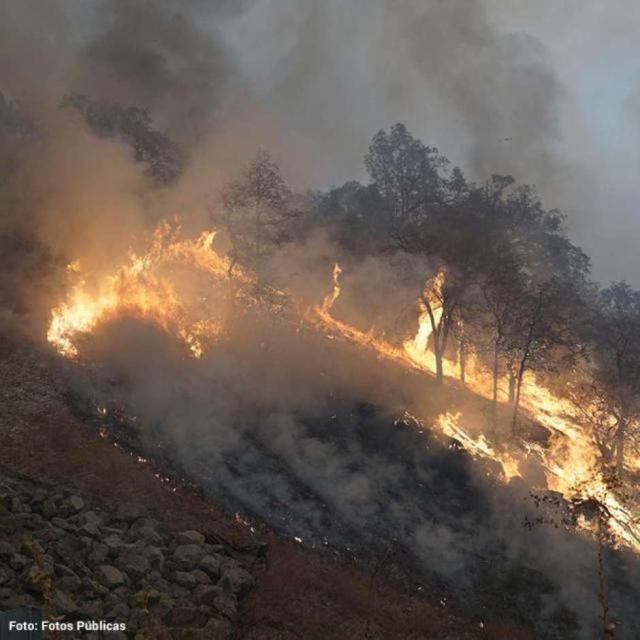Fire: (305, 272, 633, 544), (36, 220, 232, 367)
